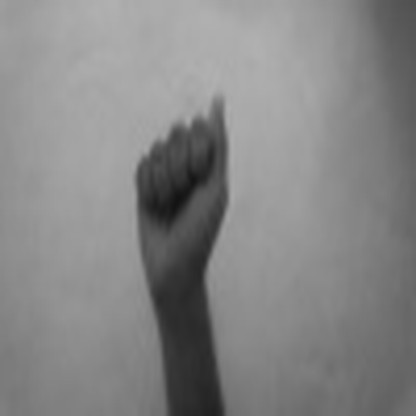a: (122, 76, 238, 276)
